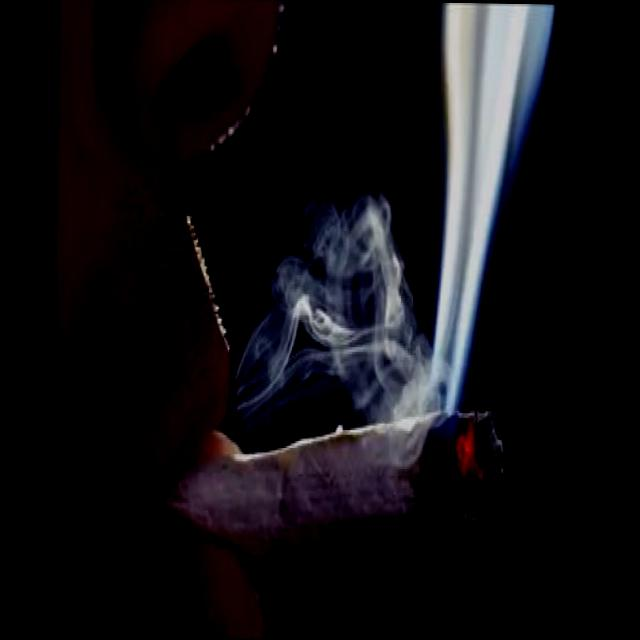cigarette: (162, 390, 513, 572)
